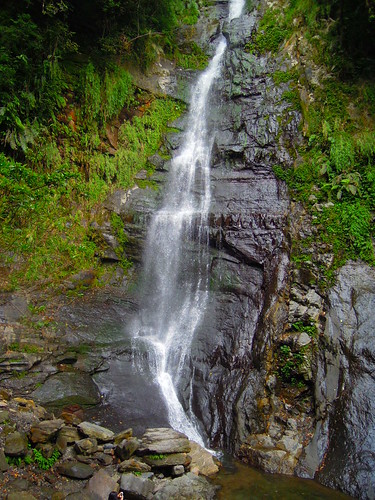wufengciWaterfall: (88, 7, 297, 452)
